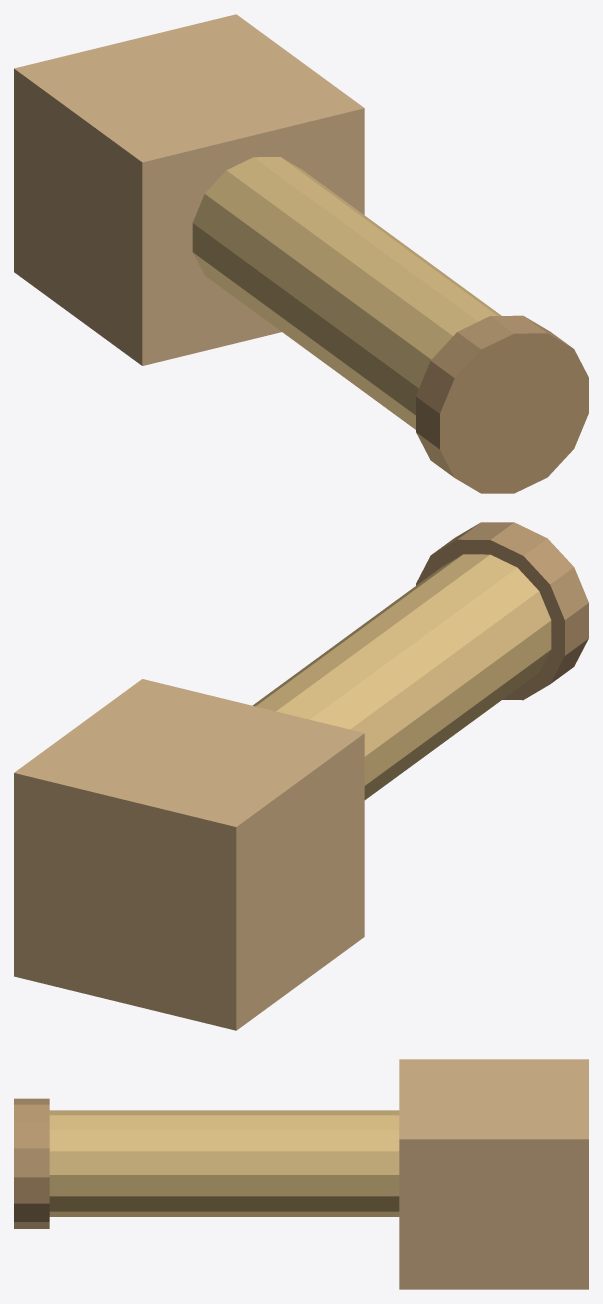
File: SM_Weapon_FrontCannon_01.glb
3 renders of one model, top to bottom at view 1: azimuth 30°, elevation 25°; view 2: azimuth 150°, elevation 25°; view 3: azimuth 270°, elevation 25°, orthographic. The views are drawn at different scales.
Visible parts, largest first — view 1: SM_FrontCannon_Saddle, SM_FrontCannon_Barrel, SM_FrontCannon_Muzzle; view 2: SM_FrontCannon_Saddle, SM_FrontCannon_Barrel, SM_FrontCannon_Muzzle; view 3: SM_FrontCannon_Saddle, SM_FrontCannon_Barrel, SM_FrontCannon_Muzzle.
Boxes of the visible parts, box(x1,y1,x2,y2) form: SM_FrontCannon_Saddle: box(14, 14, 364, 365); SM_FrontCannon_Barrel: box(192, 157, 501, 429); SM_FrontCannon_Muzzle: box(416, 315, 588, 493); SM_FrontCannon_Saddle: box(14, 679, 364, 1030); SM_FrontCannon_Barrel: box(253, 554, 551, 799); SM_FrontCannon_Muzzle: box(416, 522, 588, 700); SM_FrontCannon_Saddle: box(399, 1059, 588, 1289); SM_FrontCannon_Barrel: box(49, 1110, 399, 1216); SM_FrontCannon_Muzzle: box(14, 1098, 49, 1228).
Bounding box in the file's own units: 0.32 × 0.28 × 0.97.
